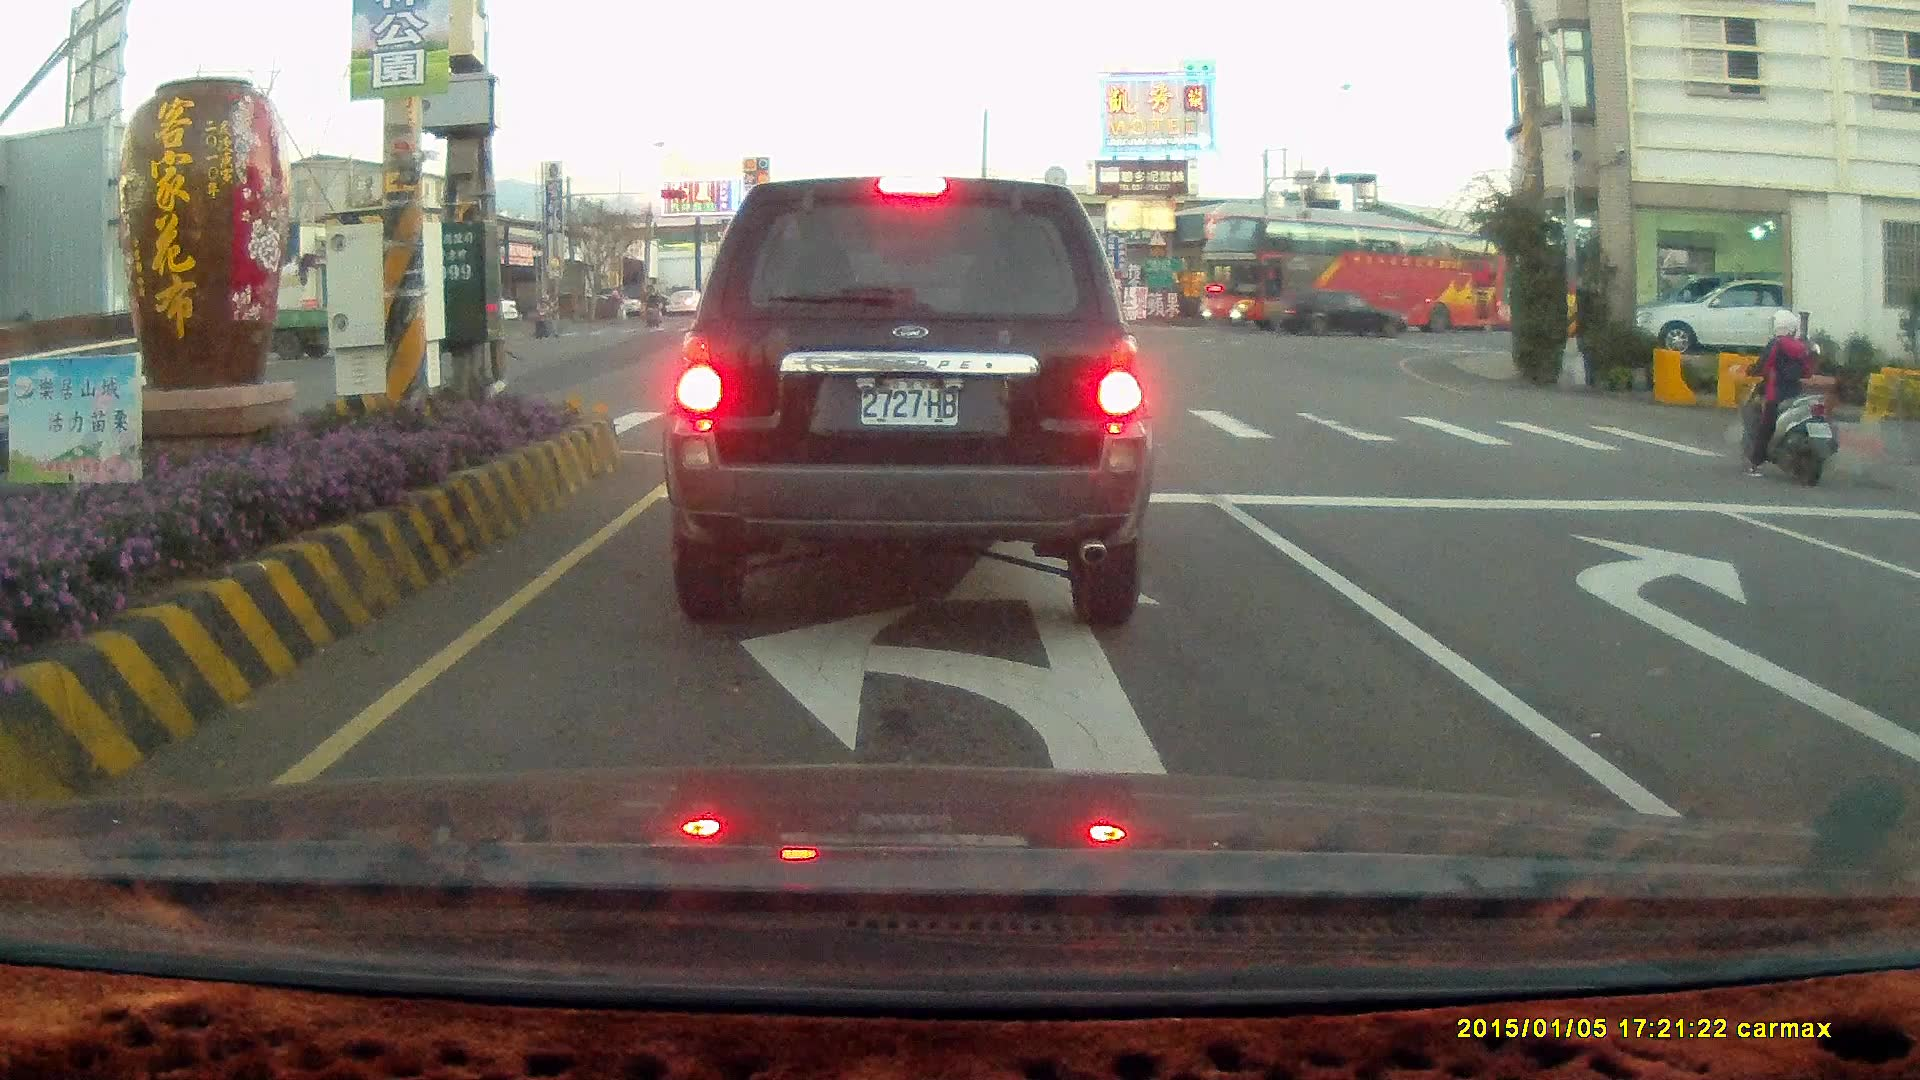rider: (1728, 307, 1838, 484), (532, 291, 560, 338), (641, 289, 662, 326)
vehicle: (659, 173, 1155, 630), (1190, 219, 1518, 335), (1622, 275, 1832, 354), (1642, 275, 1784, 356), (1259, 286, 1407, 341), (1896, 493, 1920, 836), (1883, 528, 1920, 690)
